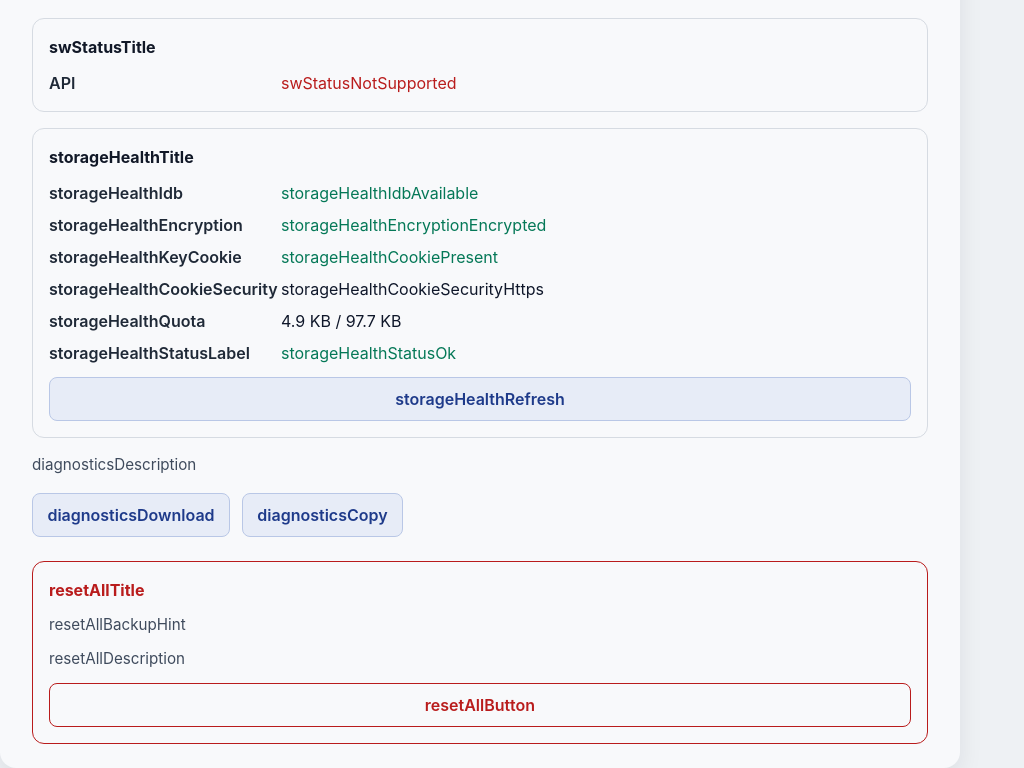
Test: HelpPage › diagnostics copy button › shows copied state on success
(page scrolled)
Click the button with test id "diagnostics-copy" at (322, 515), box [242, 493, 403, 537]
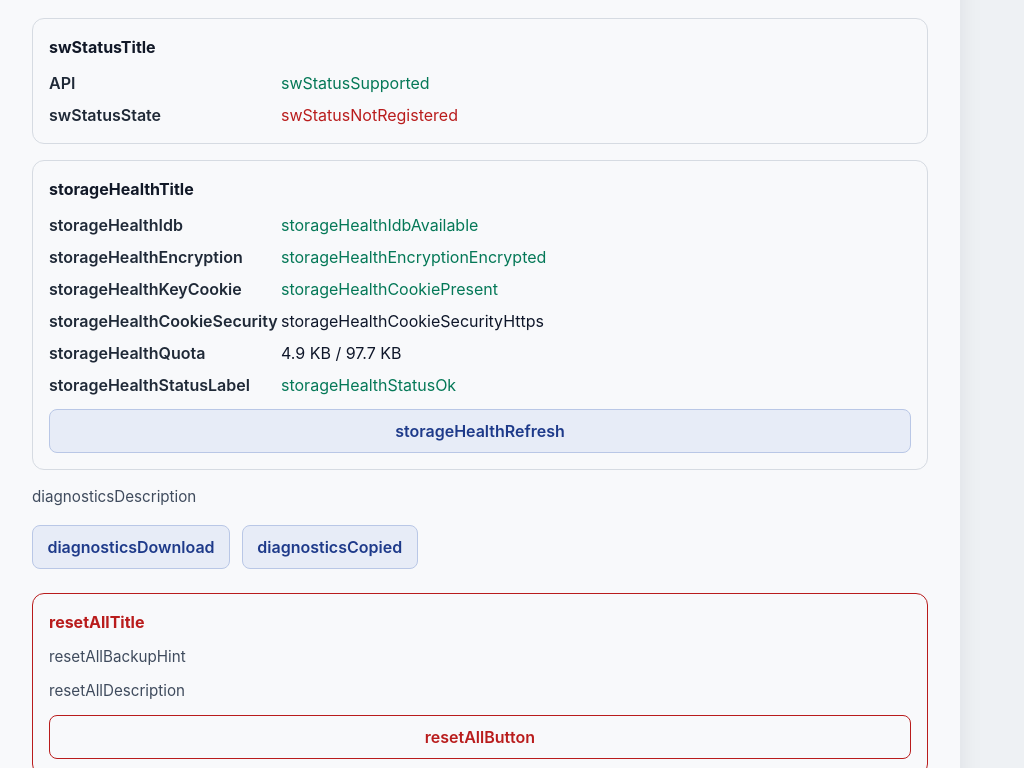
Result: the button with test id "diagnostics-copy" reads "diagnosticsCopied" at [242, 525, 418, 569]
